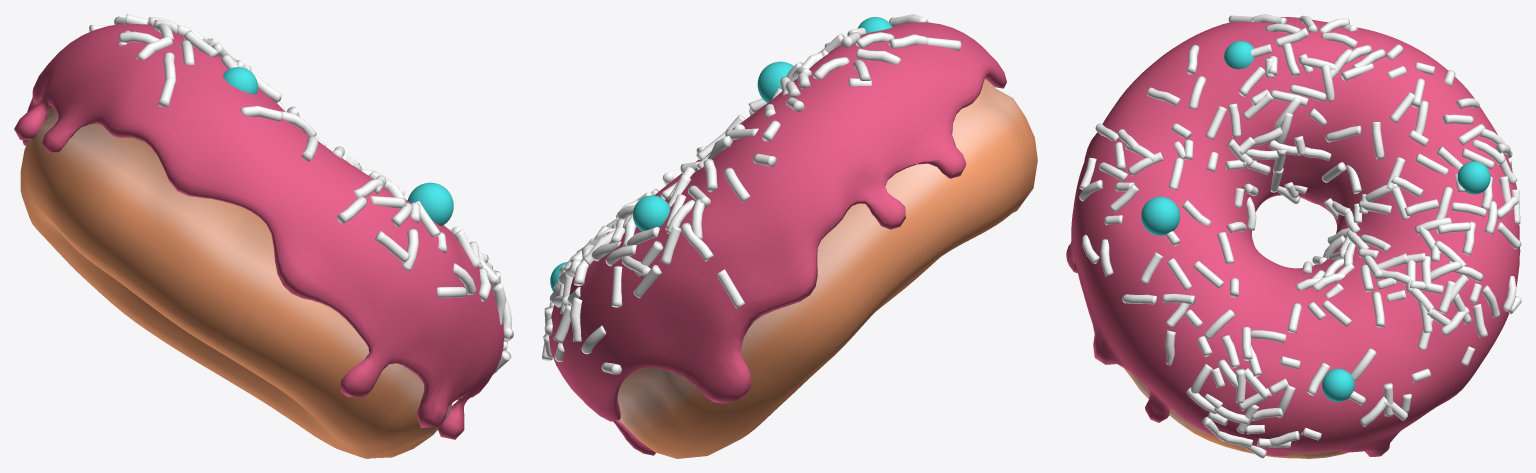
The model's file is bignut.glb.
3 renders of one model, left to right at view 1: azimuth 30°, elevation 25°; view 2: azimuth 150°, elevation 25°; view 3: azimuth 270°, elevation 25°, orthographic. The views are drawn at different scales.
Parts seen in each view (by area): view 1: Icing, Nut, Sphere.004, Sphere.005; view 2: Icing, Nut, Sphere.003, Sphere.004; view 3: Icing, Sphere.004, Nut, Sphere.003, Sphere.006, Sphere.005.
Boxes of the visible parts, x1,y1,x2,y2 form: Icing: (14, 14, 513, 439); Nut: (20, 106, 452, 458); Sphere.004: (407, 182, 453, 226); Sphere.005: (223, 67, 257, 94); Icing: (542, 14, 1006, 455); Nut: (617, 79, 1037, 458); Sphere.003: (633, 195, 670, 231); Sphere.004: (757, 61, 793, 102); Icing: (1066, 14, 1521, 458); Sphere.004: (1141, 196, 1179, 235); Nut: (1124, 368, 1348, 458); Sphere.003: (1457, 161, 1490, 194); Sphere.006: (1322, 368, 1354, 401); Sphere.005: (1224, 41, 1254, 69).
Bounding box in the file's own units: 0.0913 × 0.089 × 0.1008.
Materials: 4 (1 with a texture image).
